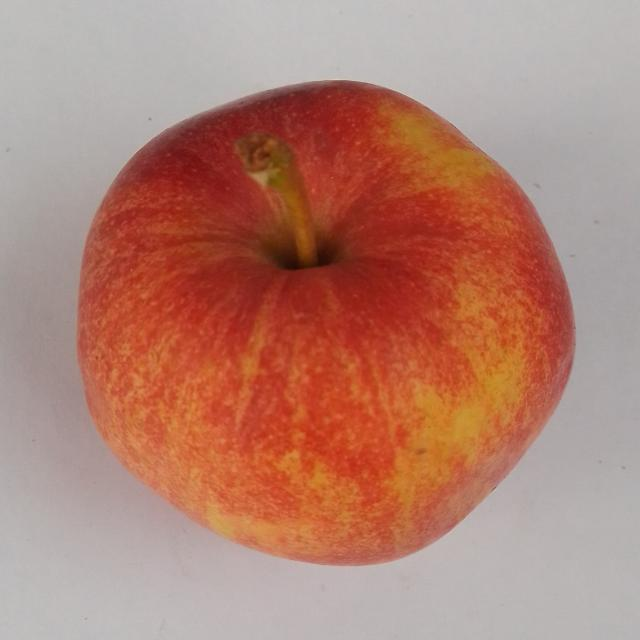Fresh Apple: (87, 95, 570, 572)
